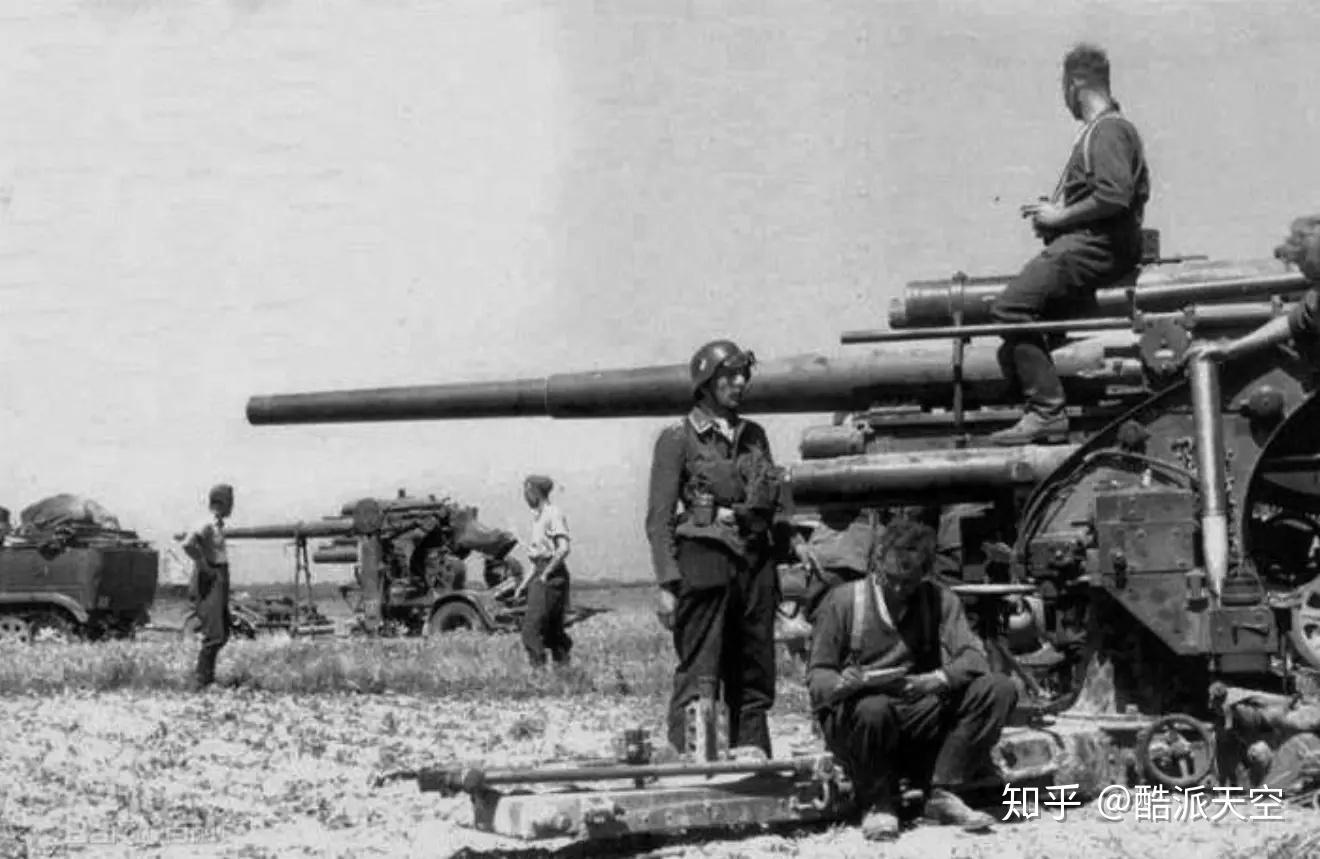MIL_SPG: (745, 260, 1320, 782), (248, 366, 691, 423)
